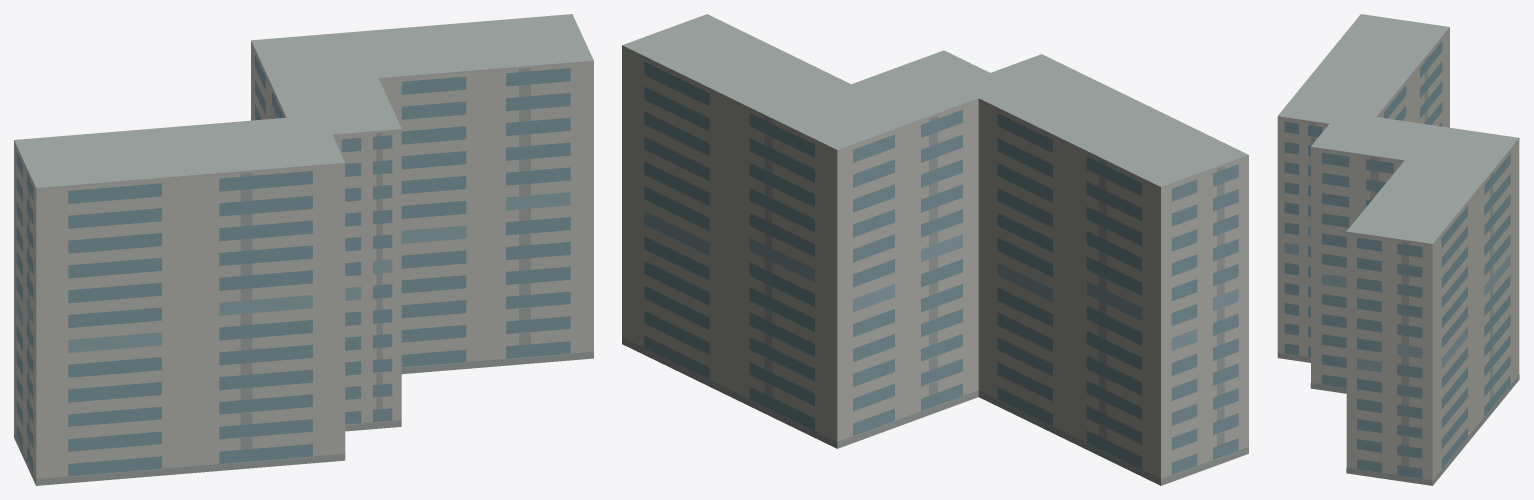
The model's file is residential-de781e6e-204f-4957-bec6-5e1a203e0827.glb.
3 renders of one model, left to right at view 1: azimuth 30°, elevation 25°; view 2: azimuth 150°, elevation 25°; view 3: azimuth 270°, elevation 25°, orthographic. The views are drawn at different scales.
Visible parts, largest first — view 1: residential-de781e6e-204f-4957-bec6-5e1a203e0827.tmp; view 2: residential-de781e6e-204f-4957-bec6-5e1a203e0827.tmp; view 3: residential-de781e6e-204f-4957-bec6-5e1a203e0827.tmp.
Boxes of the visible parts, x1=… form: residential-de781e6e-204f-4957-bec6-5e1a203e0827.tmp: x1=14, y1=14, x2=593, y2=485; residential-de781e6e-204f-4957-bec6-5e1a203e0827.tmp: x1=622, y1=14, x2=1248, y2=485; residential-de781e6e-204f-4957-bec6-5e1a203e0827.tmp: x1=1277, y1=14, x2=1519, y2=485.
Bounding box in the file's own units: 67.32 × 33 × 29.92.
